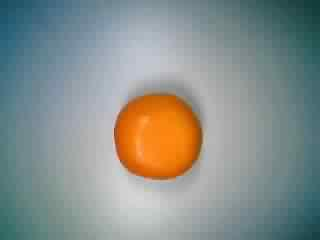orange: (107, 88, 203, 184)
